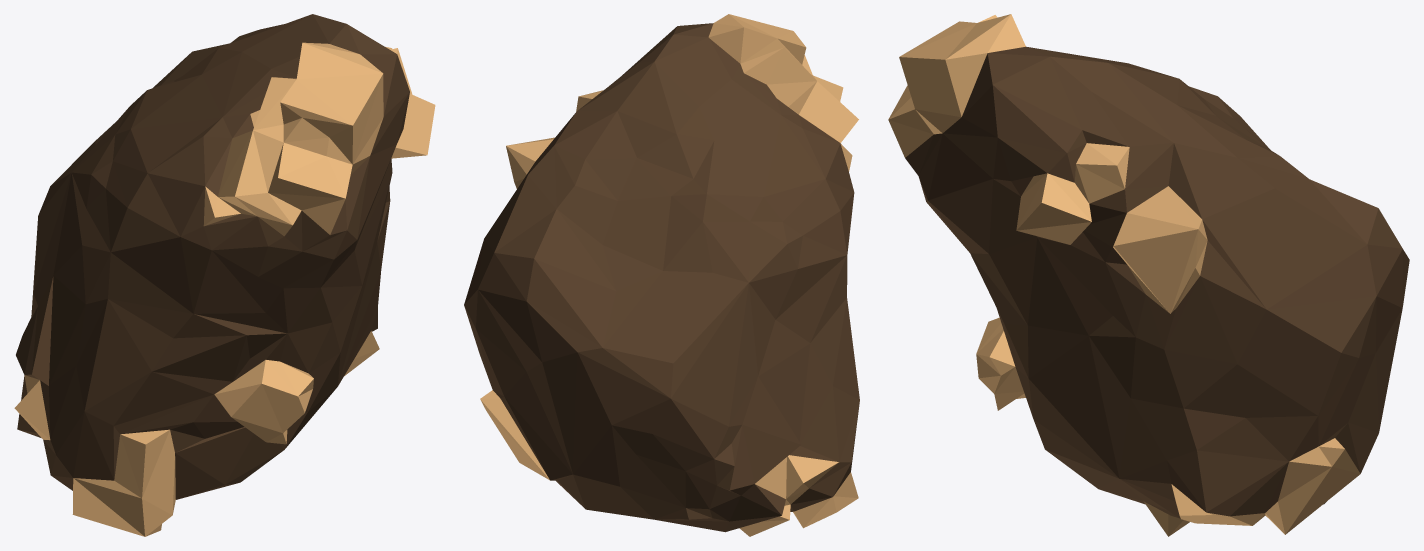
File: SM_LP_PyriteOre.fbx
3 views of the same model, side by side, from view 1: azimuth 30°, elevation 25°; view 2: azimuth 150°, elevation 25°; view 3: azimuth 270°, elevation 25° (orthographic). The views are drawn at different scales.
Visible parts, largest first — view 1: SM_LP_PyriteOre; view 2: SM_LP_PyriteOre; view 3: SM_LP_PyriteOre.
Part boxes in pixels (x1,y1,x2,y2): SM_LP_PyriteOre: (14,14,435,536); SM_LP_PyriteOre: (464,14,859,536); SM_LP_PyriteOre: (888,14,1409,536).
Bounding box in the file's own units: 0.7442 × 0.9673 × 0.8708.
